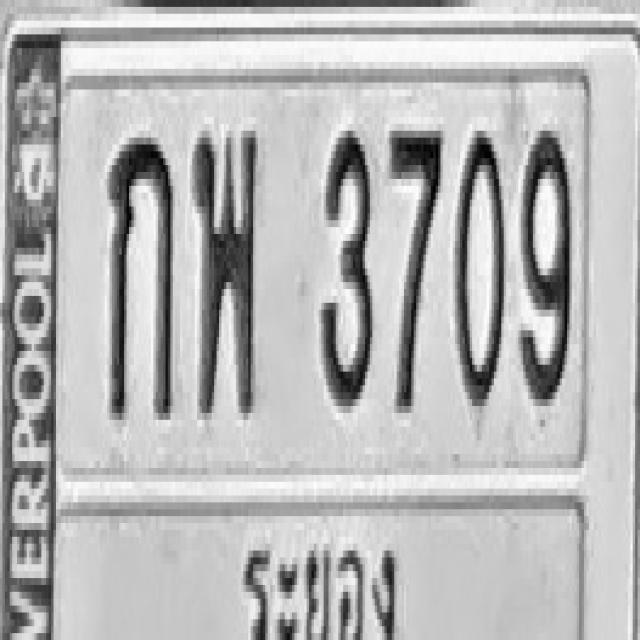0: (454, 124, 505, 406)
10GorGai: (107, 131, 173, 420)
3: (320, 124, 374, 406)
39PhorPan: (192, 124, 258, 413)
7: (388, 124, 442, 413)
9: (520, 124, 570, 406)
Rayong: (233, 534, 404, 640)
